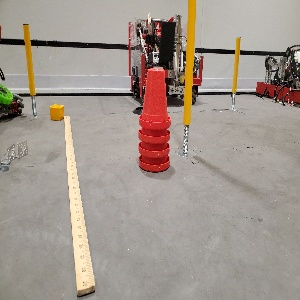Red_4: (135, 69, 169, 172)
